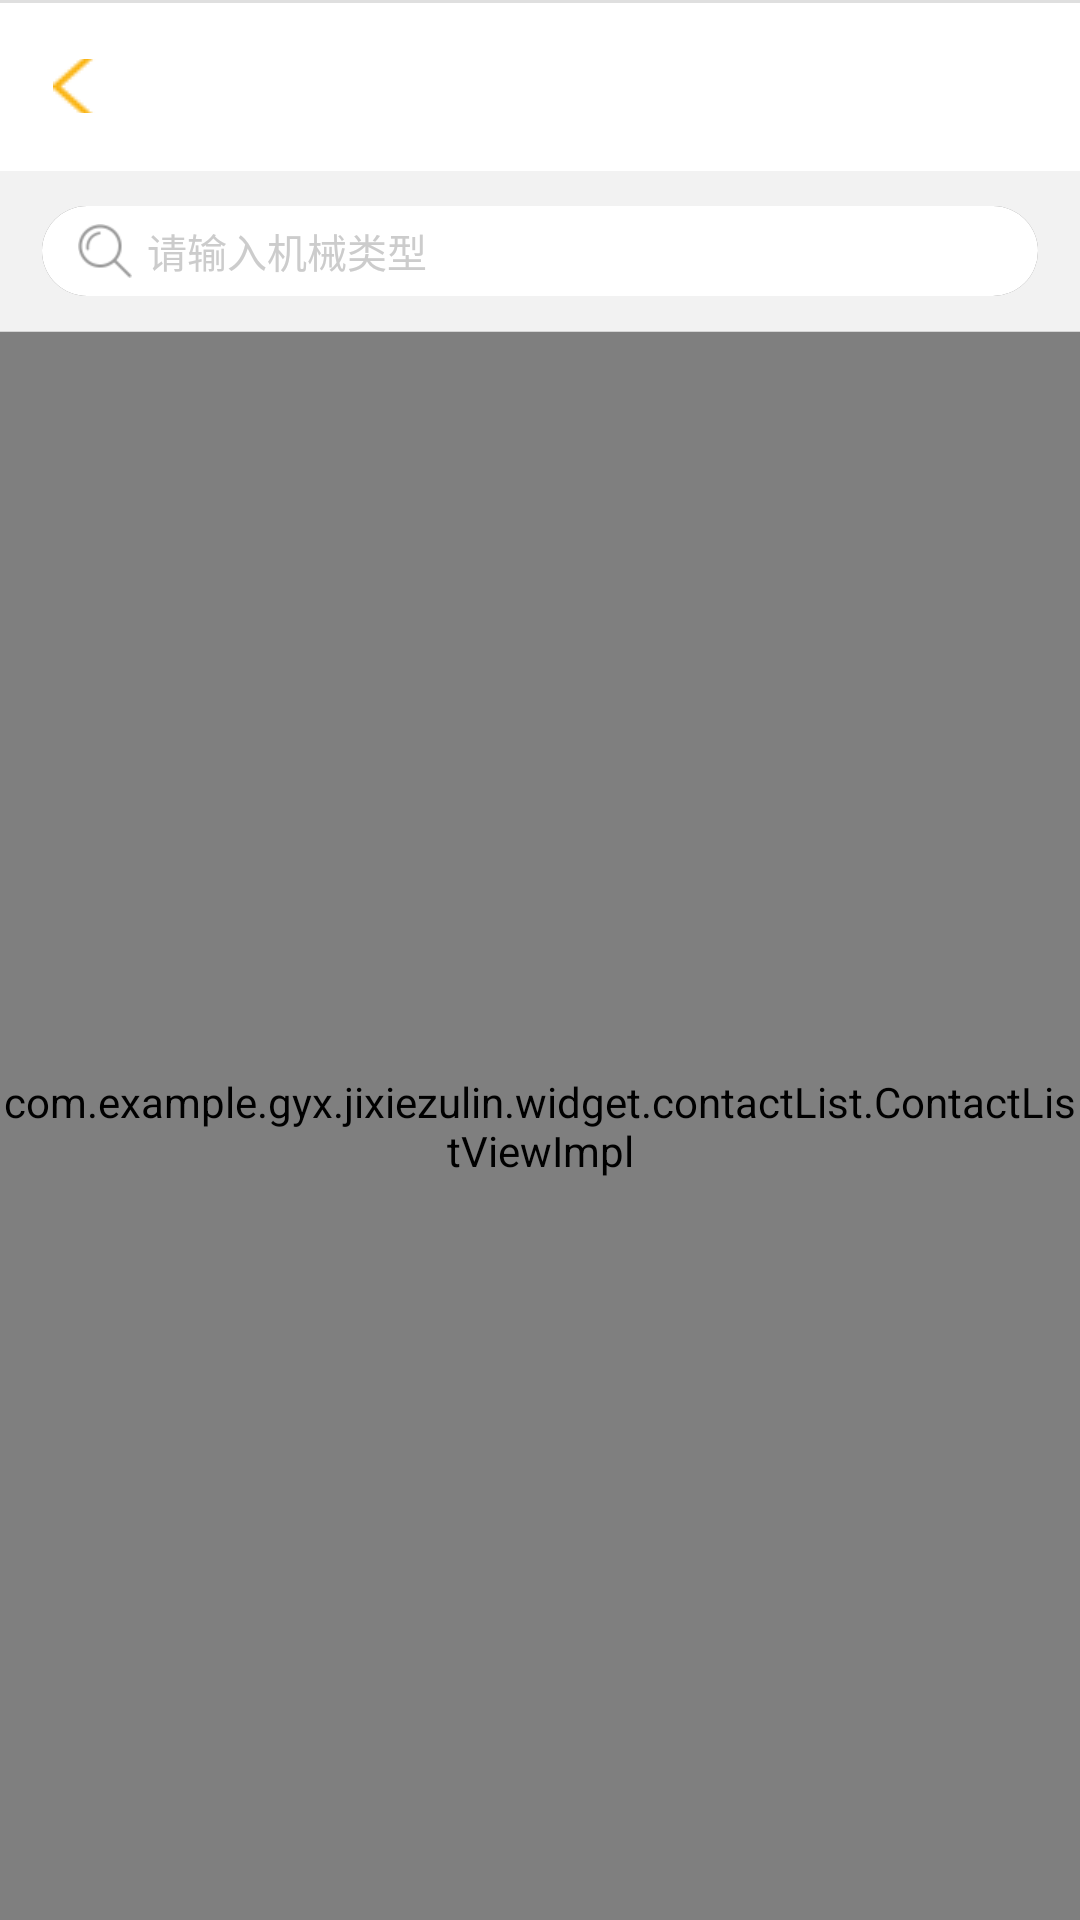

Icons on this 1080px x 1920px Android screen, each with its box as {"left": x1, "top": y1, "right": x2, "bottom": y2}:
Search: {"left": 78, "top": 224, "right": 132, "bottom": 278}
